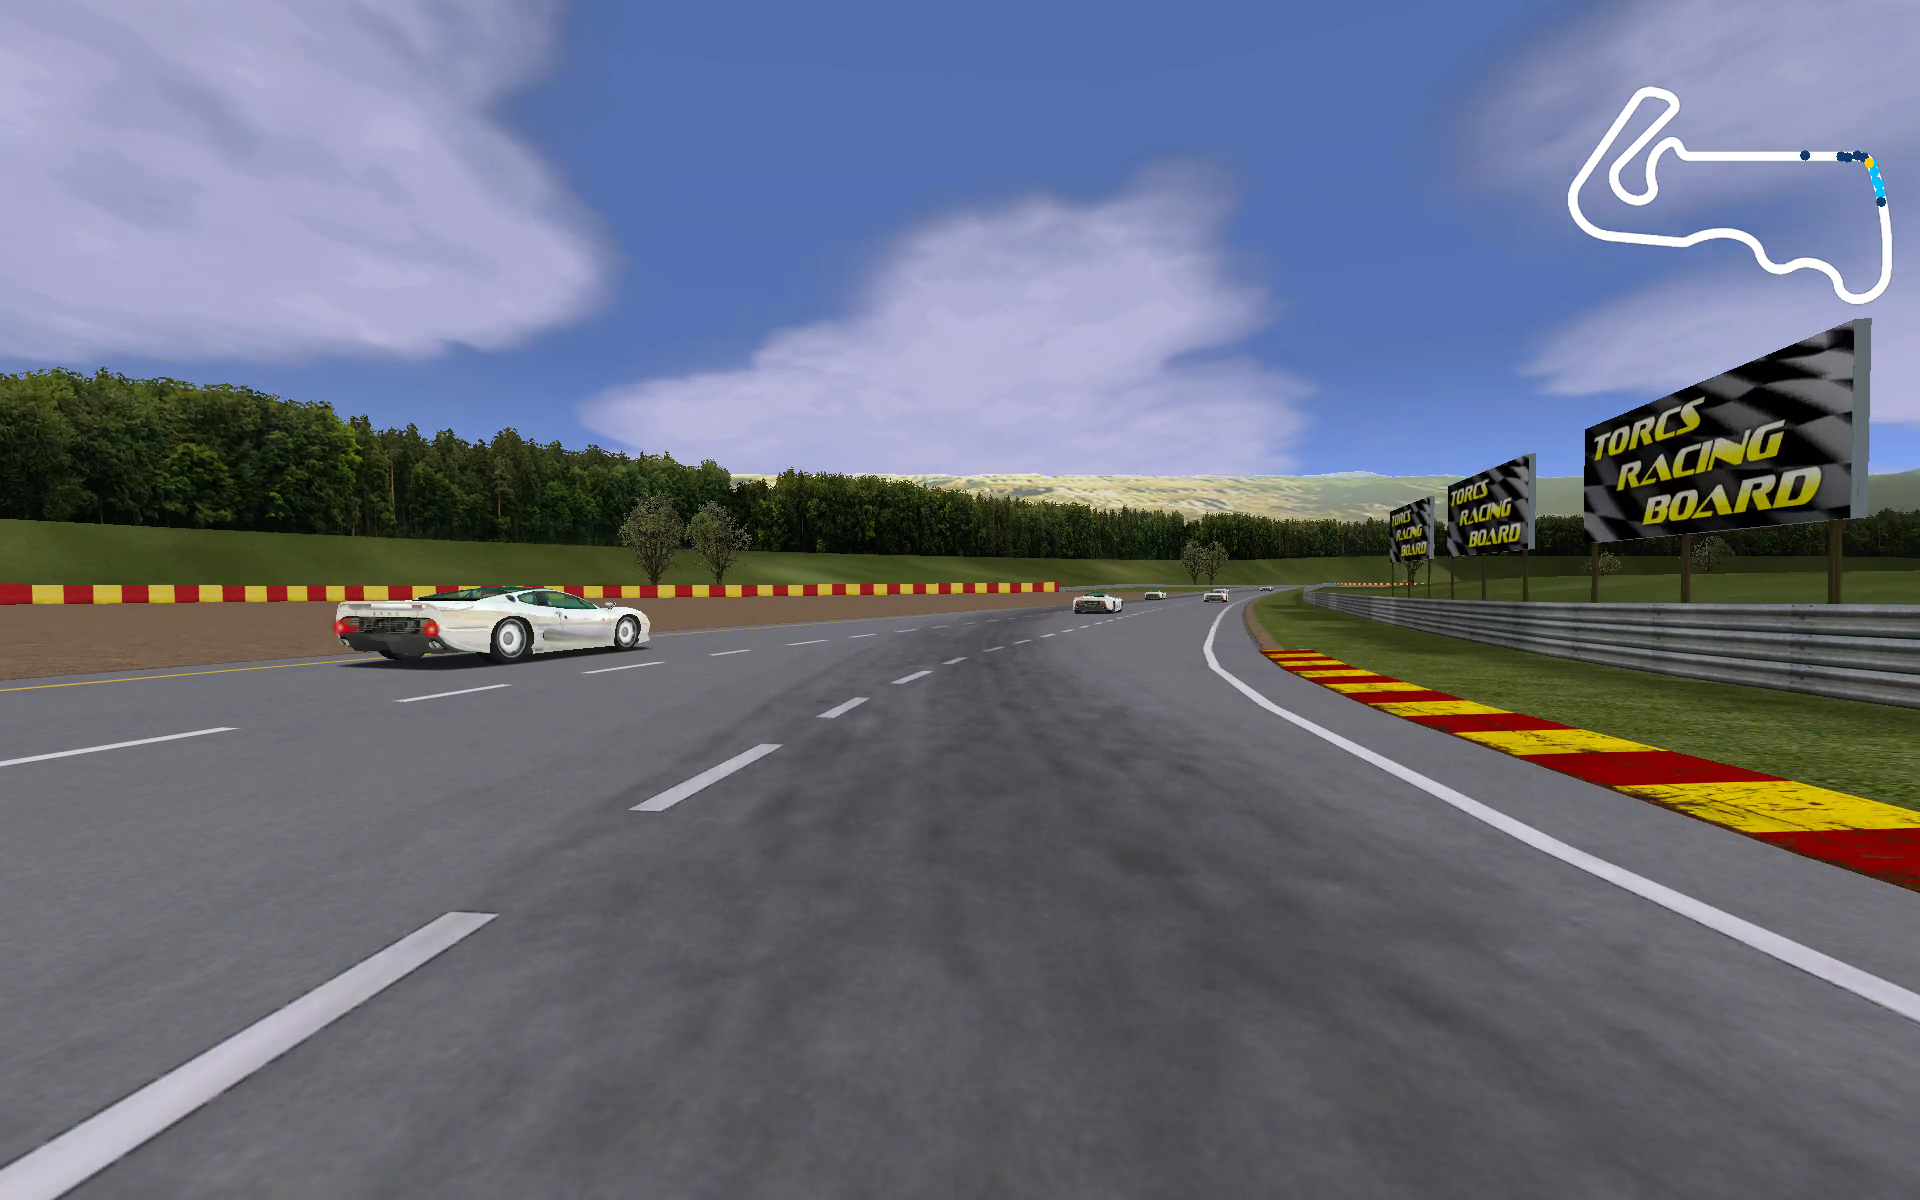car: (332, 582, 652, 671), (1069, 592, 1124, 618), (1145, 588, 1164, 600)
